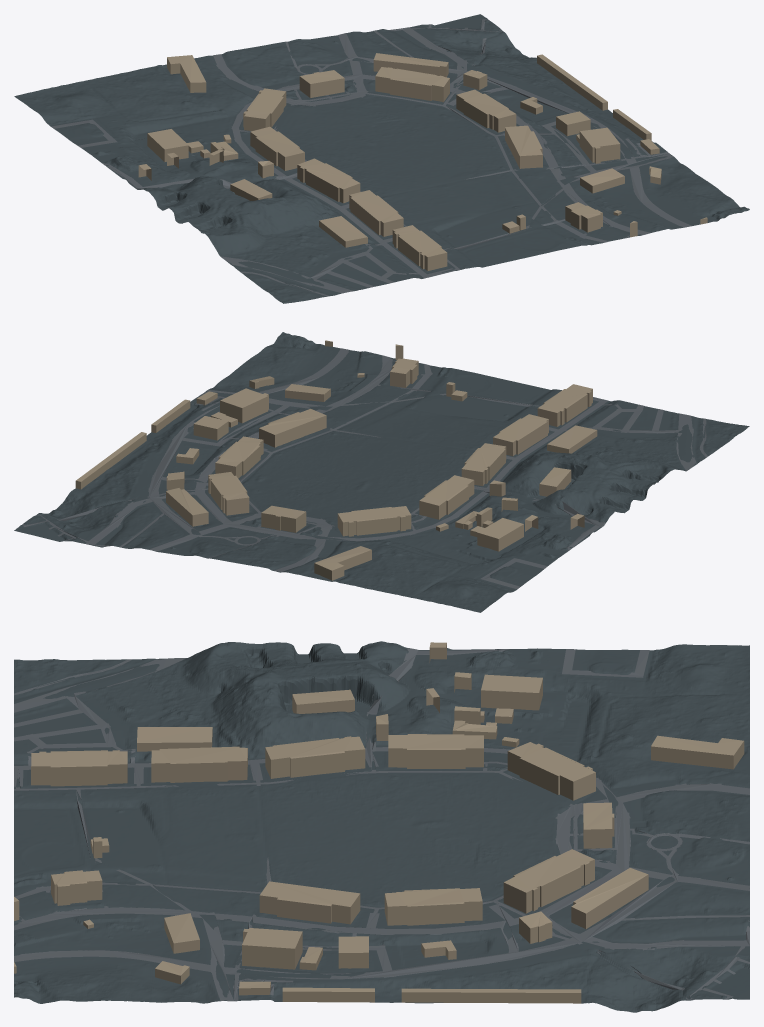
The model's file is epsg26910-1422-10895.lod0.glb.
3 views of the same model, one above another, from view 1: azimuth 30°, elevation 25°; view 2: azimuth 150°, elevation 25°; view 3: azimuth 270°, elevation 25° (orthographic). The views are drawn at different scales.
Parts seen in each view (by area): view 1: epsg26910-1422-10895-lod0; view 2: epsg26910-1422-10895-lod0; view 3: epsg26910-1422-10895-lod0.
Boxes of the visible parts, x1=… form: epsg26910-1422-10895-lod0: x1=14, y1=14, x2=749, y2=303; epsg26910-1422-10895-lod0: x1=14, y1=332, x2=749, y2=612; epsg26910-1422-10895-lod0: x1=14, y1=641, x2=749, y2=1012.
Bounding box in the file's own units: 384 × 39.15 × 384.
